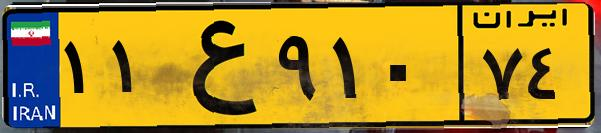0: (385, 28, 445, 110)
1: (330, 28, 385, 110), (57, 26, 110, 100), (110, 28, 158, 98)
4: (525, 38, 570, 115)
7: (475, 38, 525, 113)
9: (270, 28, 330, 110)
ع: (158, 12, 270, 120)
